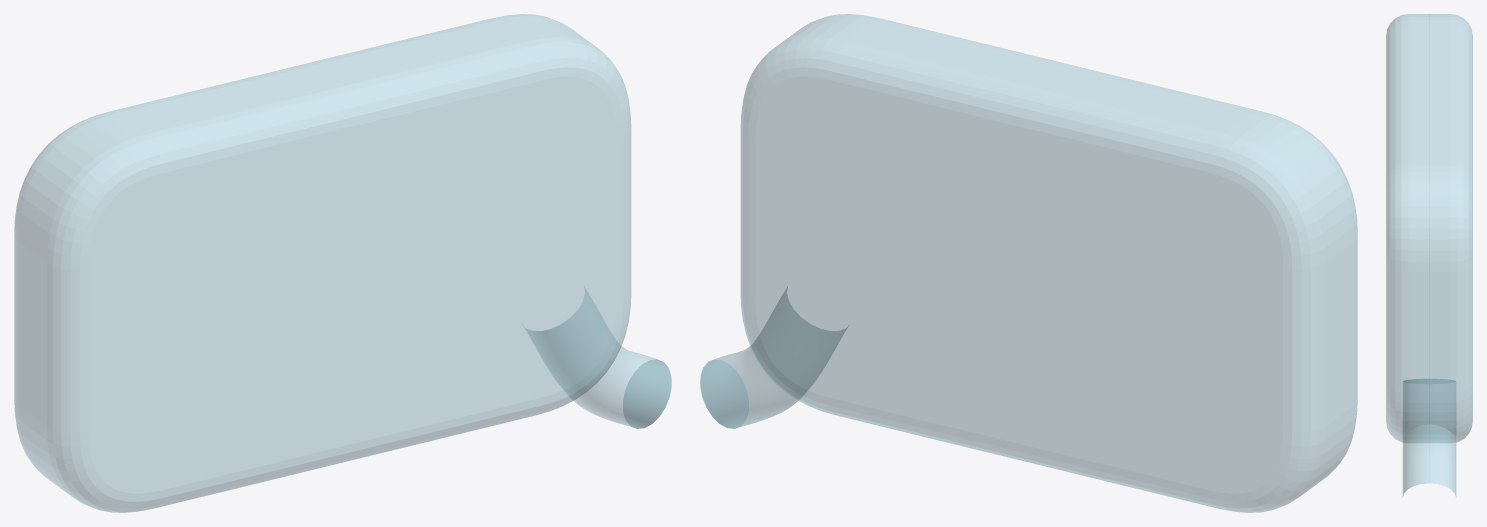
The picture shows the model from 3 angles, left to right: view 1: azimuth 30°, elevation 25°; view 2: azimuth 150°, elevation 25°; view 3: azimuth 270°, elevation 25°; orthographic projection. The views are drawn at different scales.
Parts seen in each view (by area): view 1: panel, anchor-tail; view 2: panel, anchor-tail; view 3: panel, anchor-tail.
Boxes of the visible parts, x1,y1,x2,y2 form: panel: [14, 14, 630, 512]; anchor-tail: [524, 287, 671, 428]; panel: [741, 14, 1357, 512]; anchor-tail: [700, 287, 847, 428]; panel: [1386, 14, 1472, 442]; anchor-tail: [1403, 379, 1455, 495].
Bounding box in the file's own units: 2.39 × 1.54 × 0.39.
